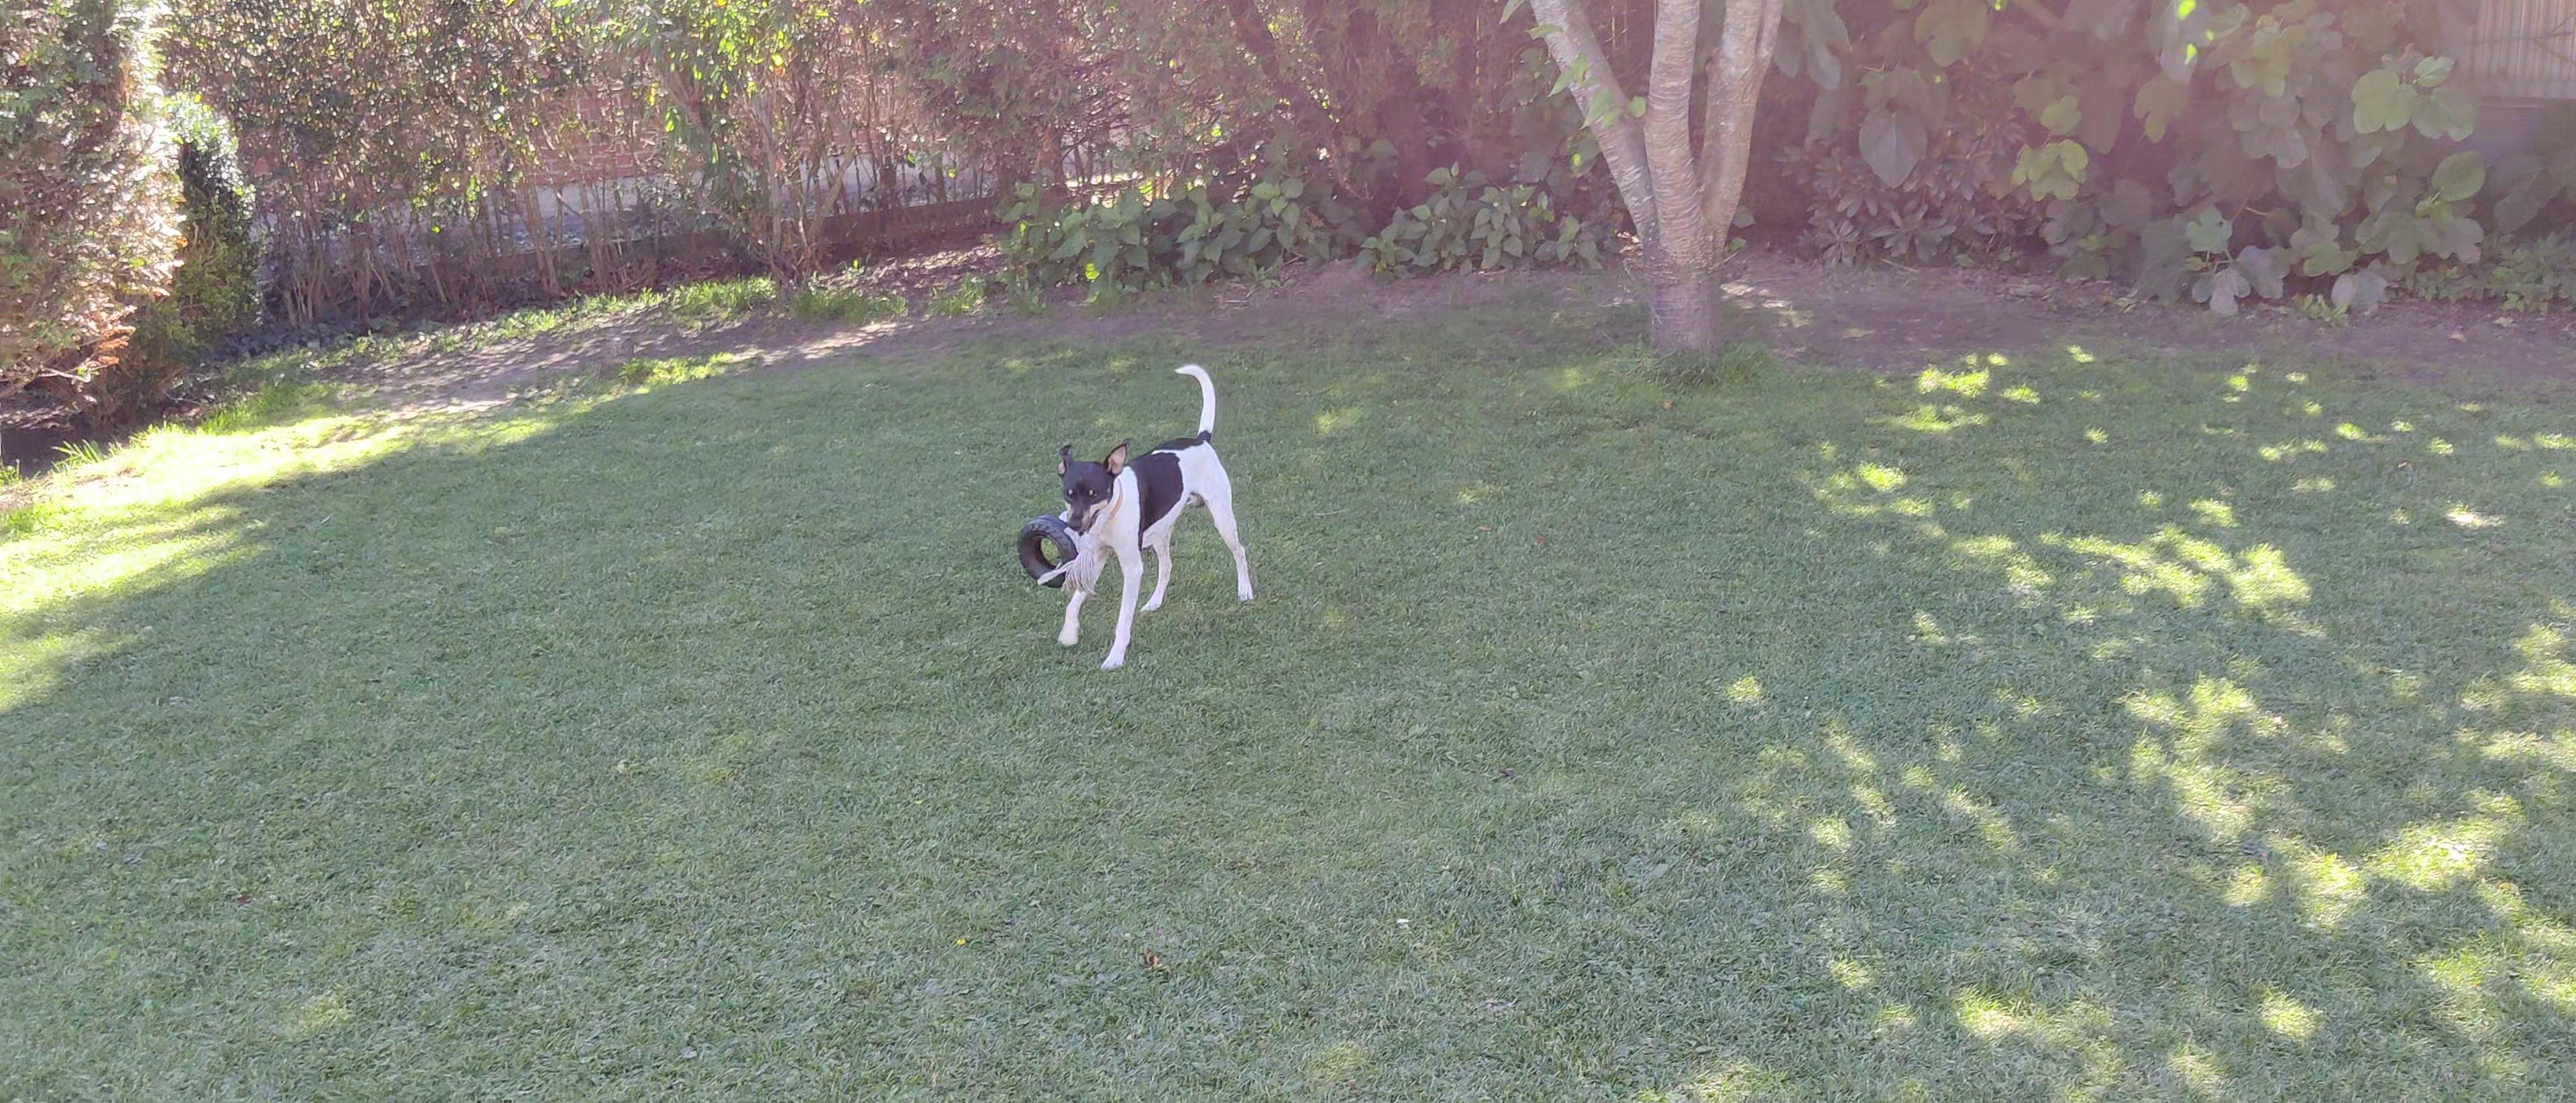Dog: (1035, 352, 1281, 682)
